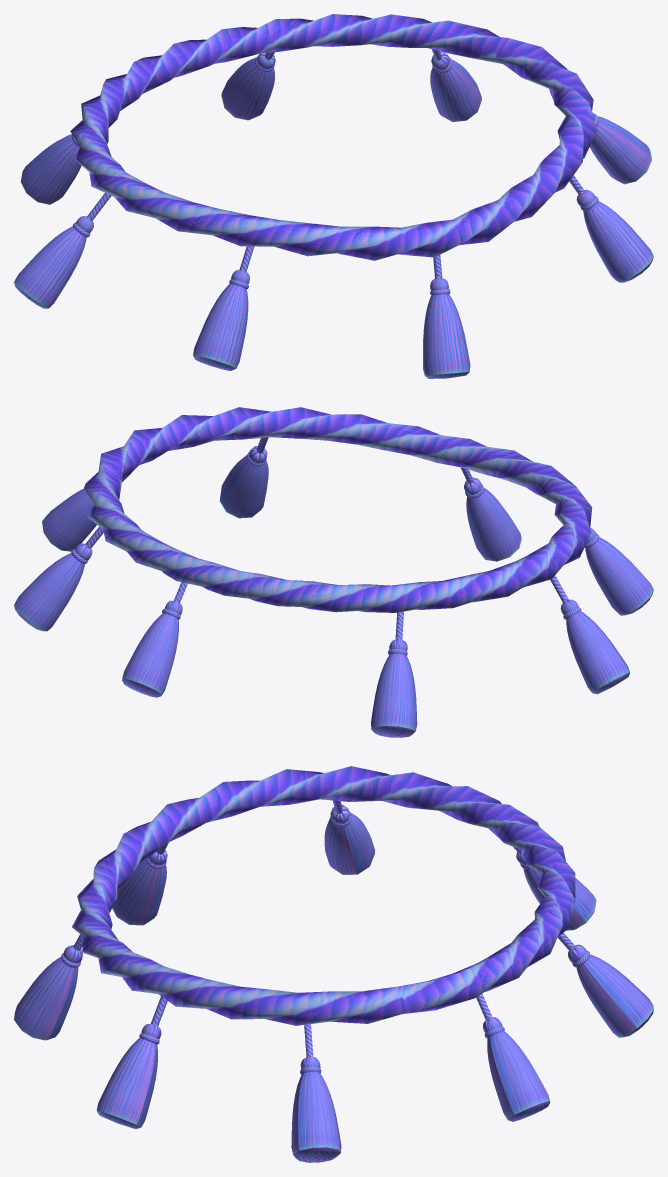
The model's file is SM_EastLands_Rope_02.fbx.
3 views of the same model, one above another, from view 1: azimuth 30°, elevation 25°; view 2: azimuth 150°, elevation 25°; view 3: azimuth 270°, elevation 25° (orthographic). The views are drawn at different scales.
Parts seen in each view (by area): view 1: SM_EastLands_Rope_02_LOD0; view 2: SM_EastLands_Rope_02_LOD0; view 3: SM_EastLands_Rope_02_LOD0.
Boxes of the visible parts, box(x1,y1,x2,y2) form: SM_EastLands_Rope_02_LOD0: box(14, 14, 653, 378); SM_EastLands_Rope_02_LOD0: box(14, 407, 653, 737); SM_EastLands_Rope_02_LOD0: box(14, 766, 653, 1162).
Bounding box in the file's own units: 421 × 107 × 363.
